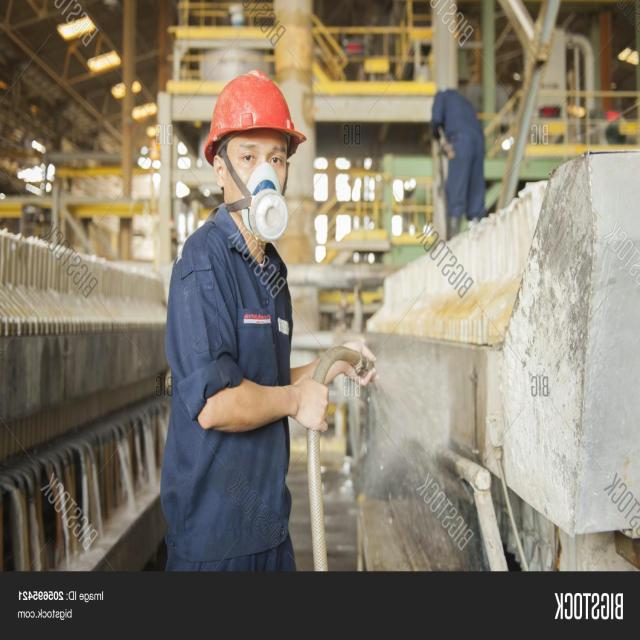face_mask: (225, 139, 296, 226)
hand_noglove: (297, 371, 330, 437)
head_helmet: (205, 72, 305, 159)
person: (154, 72, 312, 571)
